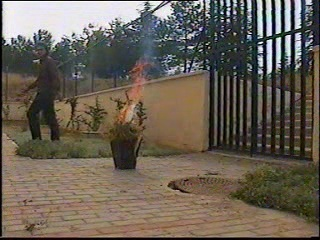smoke: (129, 14, 164, 65)
